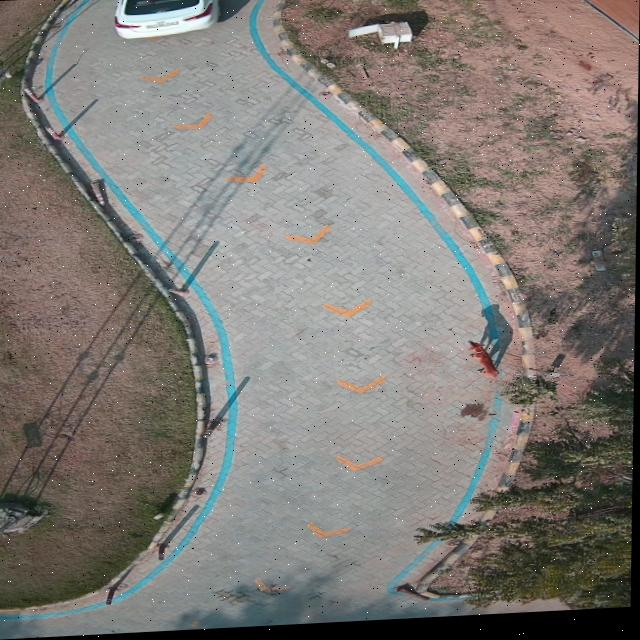car: (115, 0, 221, 40)
